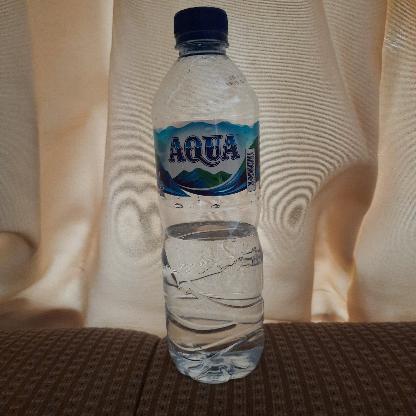Plastic Bottle: (154, 6, 268, 388)
